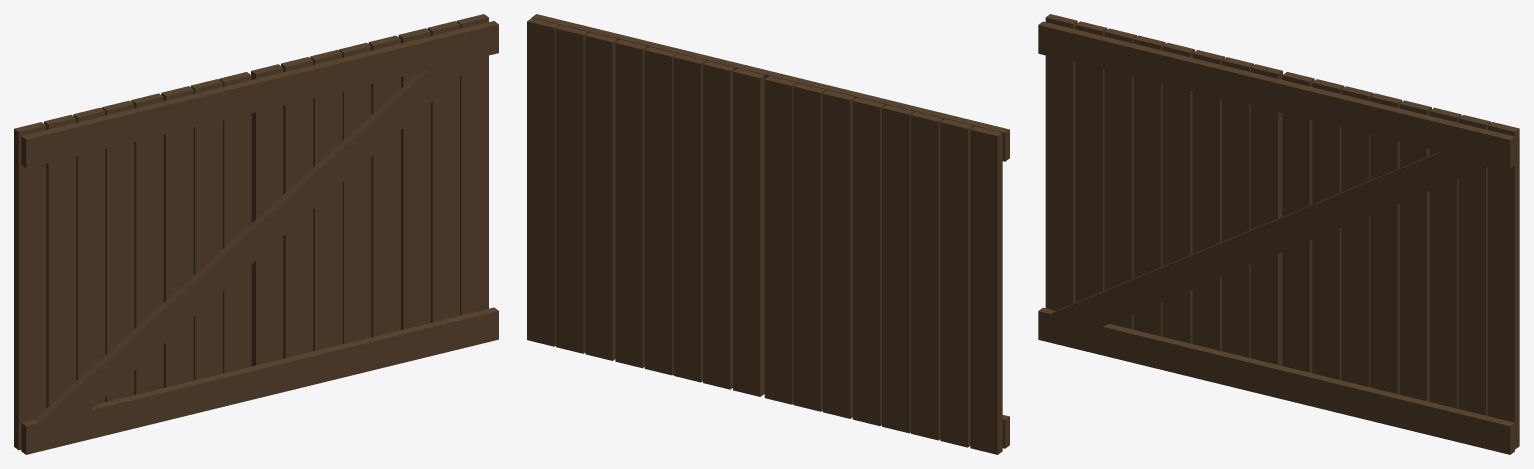
Rendered from MOD_BarnDoor_L.fbx.
3 views of the same model, side by side, from view 1: azimuth 30°, elevation 25°; view 2: azimuth 150°, elevation 25°; view 3: azimuth 330°, elevation 25° (orthographic).
Parts seen in each view (by area): view 1: Door_Large1; view 2: Door_Large1; view 3: Door_Large1.
Part boxes in pixels (x1,y1,x2,y2): Door_Large1: (14, 14, 498, 454); Door_Large1: (527, 14, 1009, 454); Door_Large1: (1038, 14, 1519, 454).
Bounding box in the file's own units: 860 × 553 × 38.22.
